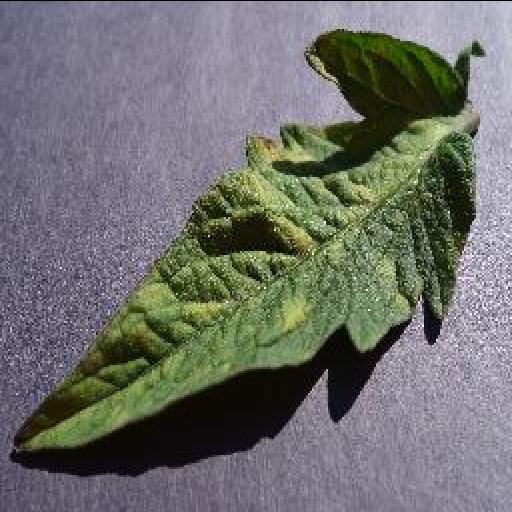disease_tomato: (10, 28, 482, 453)
